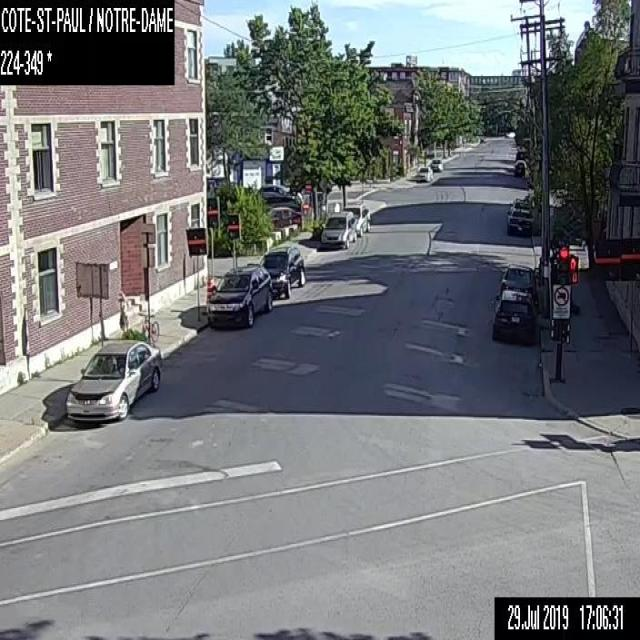construction: (205, 274, 213, 298)
vehicle: (64, 337, 161, 423), (205, 262, 272, 326), (492, 288, 536, 344), (258, 245, 305, 297), (321, 210, 356, 249), (499, 262, 536, 293), (342, 201, 370, 236), (506, 207, 532, 236), (266, 206, 302, 226), (256, 184, 298, 200), (509, 196, 531, 211), (414, 166, 433, 181), (513, 159, 525, 176), (430, 157, 442, 171), (516, 149, 524, 159)
